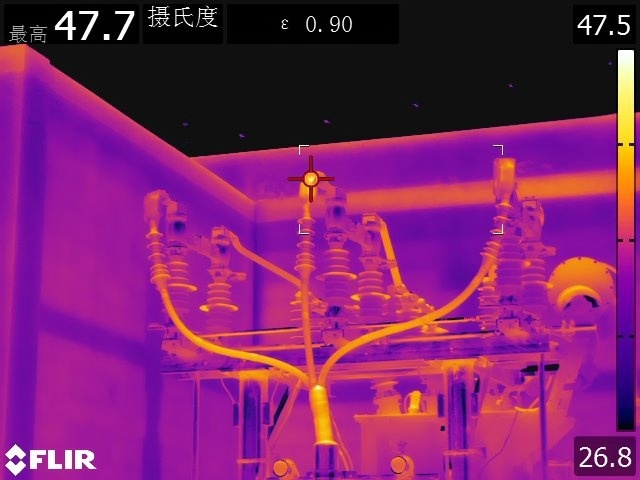post insulator: (317, 241, 364, 316), (197, 273, 243, 346), (158, 248, 199, 322), (489, 231, 526, 296), (351, 265, 389, 327), (520, 250, 556, 312)
switch: (167, 210, 234, 268), (327, 198, 384, 253), (496, 190, 546, 242)
tube: (477, 196, 517, 261), (139, 228, 172, 293), (291, 211, 318, 277)
